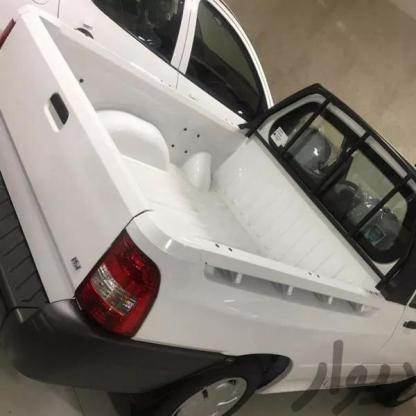Car: (0, 88, 416, 416), (0, 0, 272, 168)
